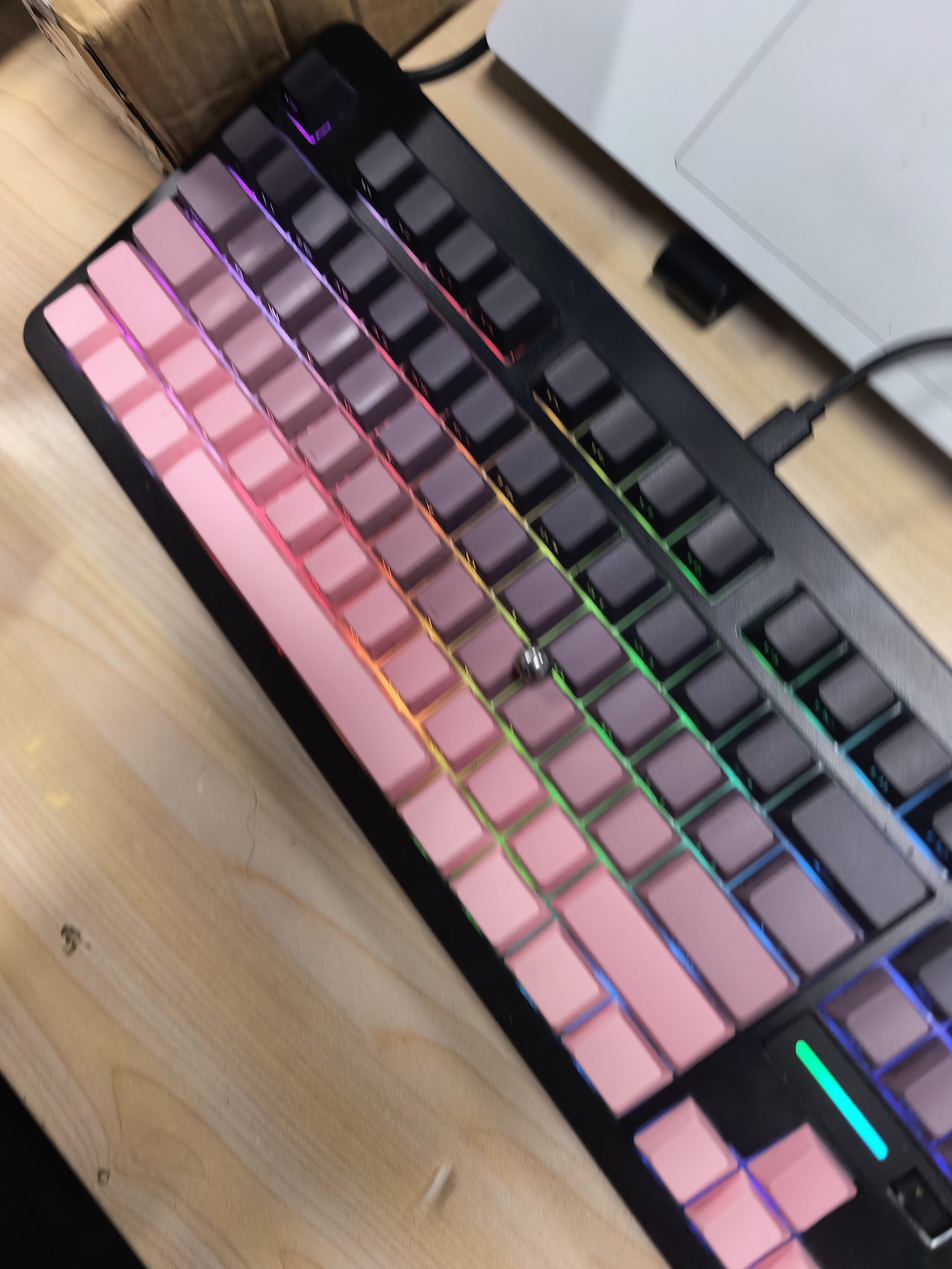ball: (508, 636, 560, 692)
